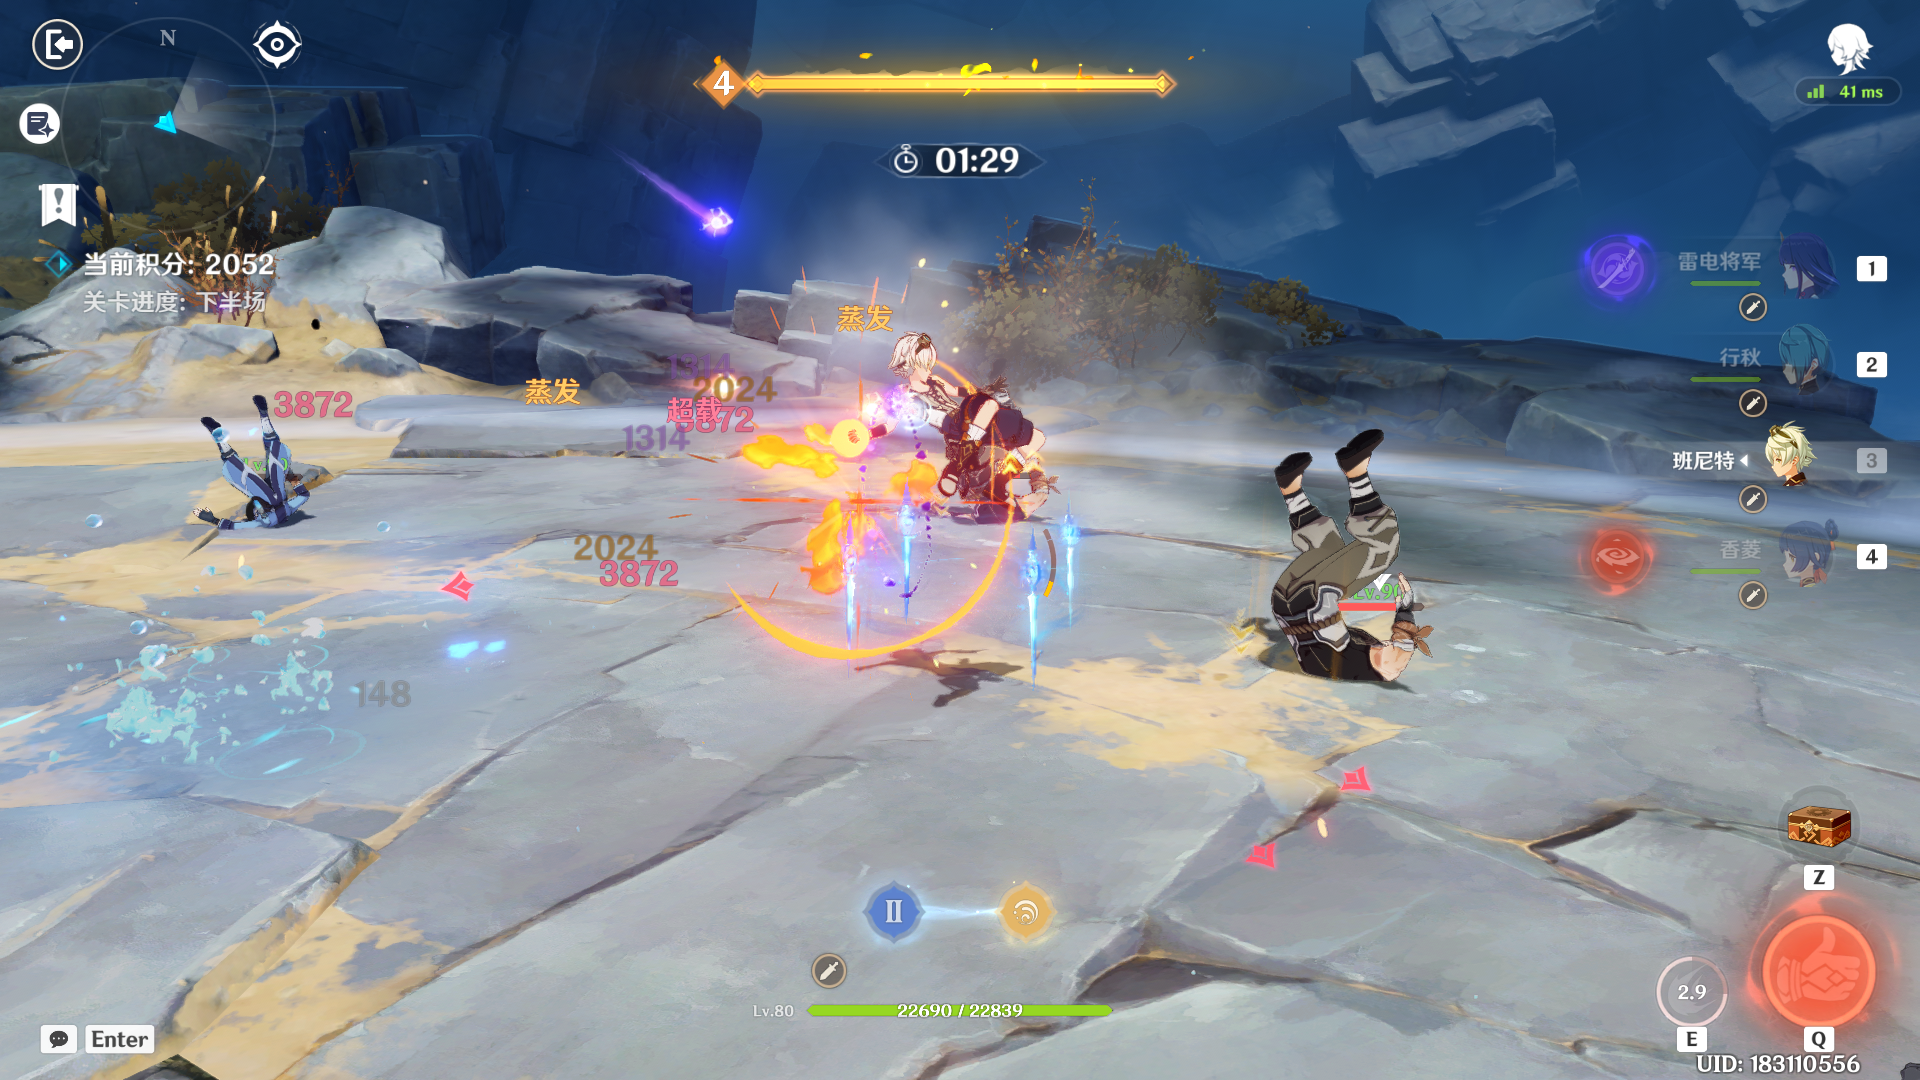character: (861, 313, 1120, 600)
robber: (1213, 367, 1487, 748)
